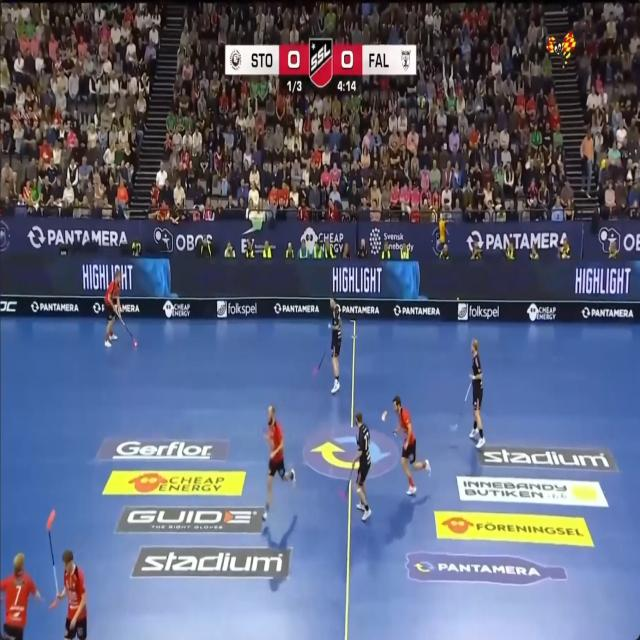Balls: (133, 339, 136, 347)
player: (262, 406, 295, 520), (393, 395, 430, 494), (0, 553, 41, 639), (52, 550, 86, 639), (354, 412, 370, 521), (470, 339, 485, 448), (104, 269, 121, 346), (330, 298, 342, 393), (383, 412, 386, 417)
stick: (47, 509, 59, 596), (117, 312, 137, 346), (339, 460, 356, 499), (451, 406, 463, 430), (313, 350, 325, 374), (465, 380, 472, 403)
